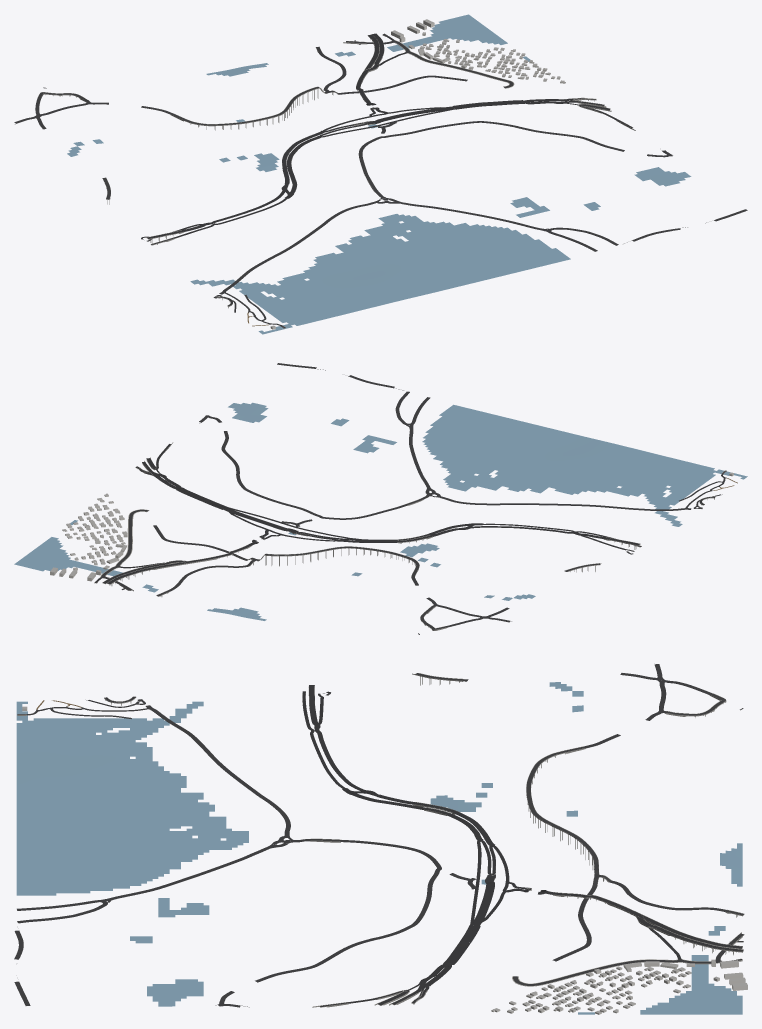
File: chunk_7_2.glb
3 views of the same model, one above another, from view 1: azimuth 30°, elevation 25°; view 2: azimuth 150°, elevation 25°; view 3: azimuth 270°, elevation 25° (orthographic). The views are drawn at different scales.
Parts seen in each view (by area): view 1: Water_7_2, Roads_7_2, Filler_7_2, RoadSides_7_2; view 2: Water_7_2, Roads_7_2, RoadSides_7_2, Filler_7_2; view 3: Water_7_2, Roads_7_2, Filler_7_2, RoadSides_7_2.
Boxes of the visible parts, x1=… form: Water_7_2: x1=67, y1=14, x2=690, y2=334; Roads_7_2: x1=14, y1=33, x2=747, y2=327; Filler_7_2: x1=391, y1=19, x2=565, y2=83; RoadSides_7_2: x1=38, y1=33, x2=635, y2=328; Water_7_2: x1=14, y1=403, x2=747, y2=620; Roads_7_2: x1=94, y1=363, x2=737, y2=634; RoadSides_7_2: x1=94, y1=442, x2=726, y2=630; Filler_7_2: x1=50, y1=493, x2=127, y2=581; Water_7_2: x1=16, y1=682, x2=742, y2=1014; Roads_7_2: x1=14, y1=664, x2=744, y2=1007; Filler_7_2: x1=491, y1=959, x2=747, y2=1014; RoadSides_7_2: x1=17, y1=673, x2=744, y2=1007.
Bounding box in the file's own units: 2063 × 141 × 2071.
